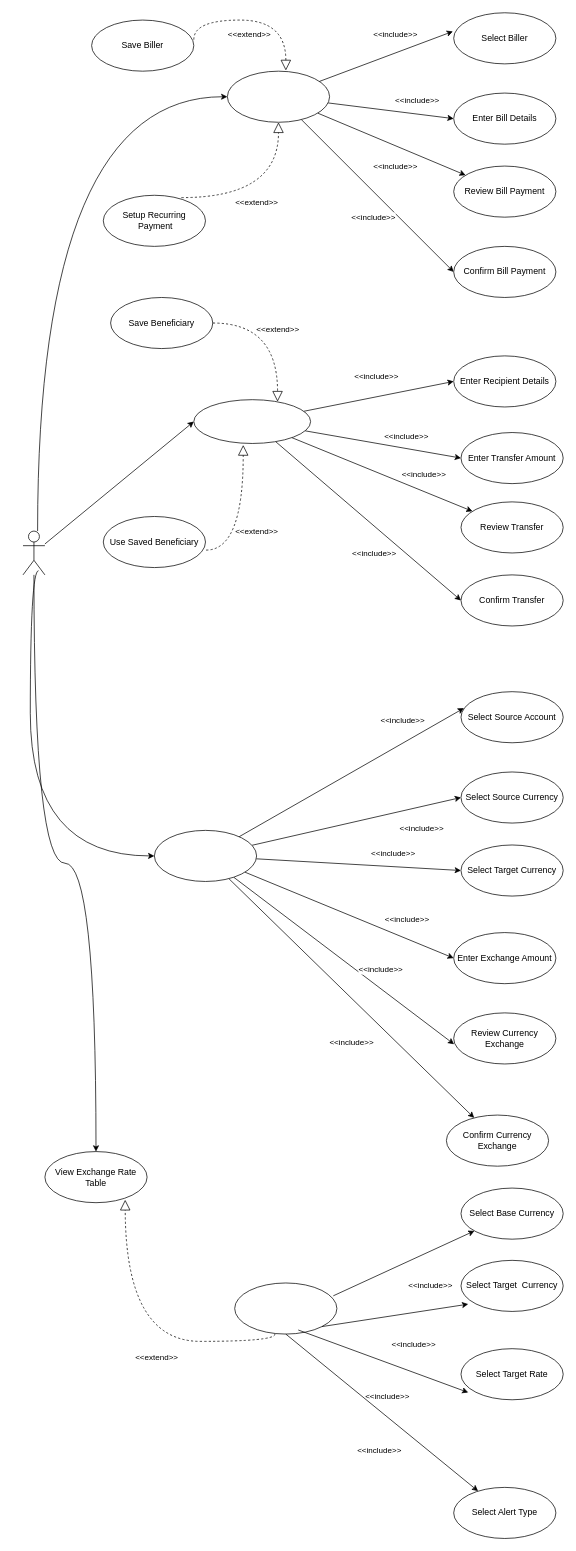
This 576x1551 diagram has some shape labels left out. The centre of each missing label's shape, as x and y in pixels:
Bank User: the point at 33,552
Exchange Currency: the point at 205,855
Initiate Transfer: the point at 252,421
Pay Bill: the point at 278,96
Set Exchange Rate Alert: the point at 285,1308
